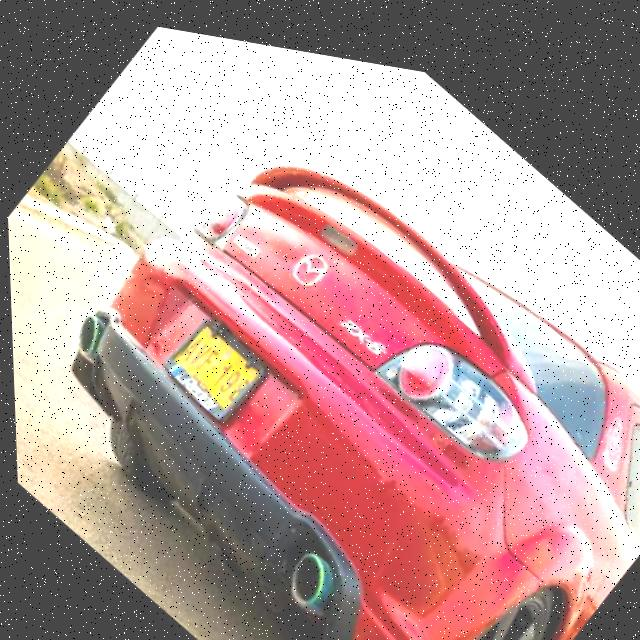license_plate: (153, 299, 268, 426)
